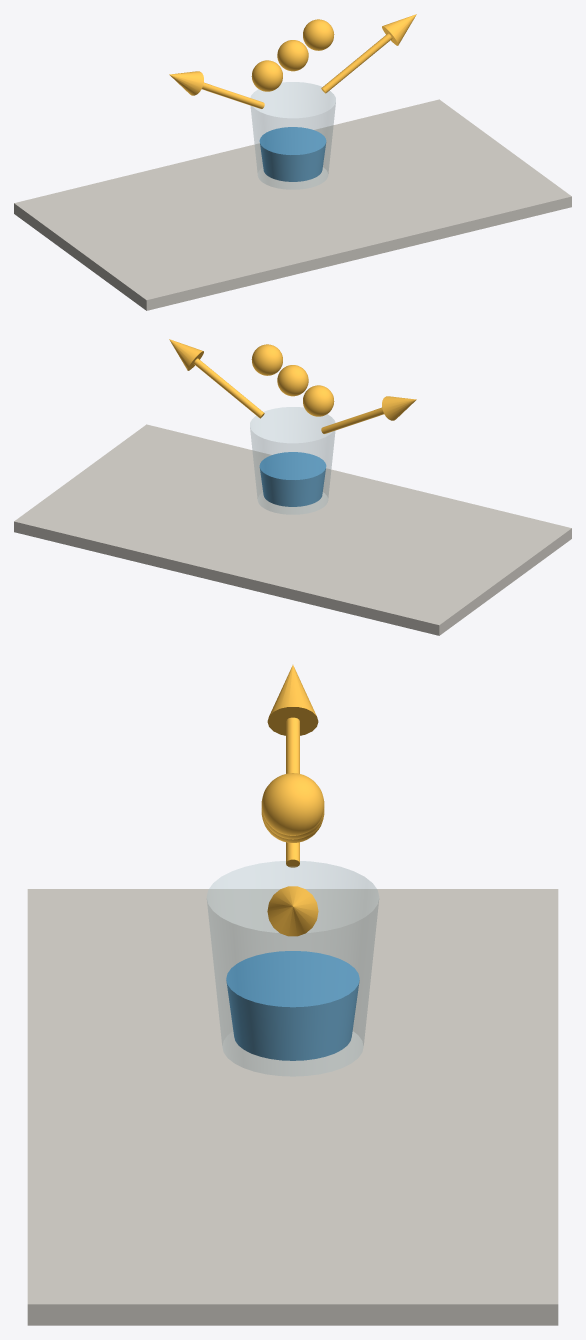
Rendered from chem-reaction-exothermic.glb.
3 views of the same model, one above another, from view 1: azimuth 30°, elevation 25°; view 2: azimuth 150°, elevation 25°; view 3: azimuth 270°, elevation 25° (orthographic). The views are drawn at different scales.
Visible parts, largest first — view 1: reaction-base, glass-wall, liquid-fill, heat-burst-2, heat-burst-1, heat-burst-3, heat-out-arrow-2-shaft, heat-out-arrow-1-head, heat-out-arrow-1-shaft, heat-out-arrow-2-head; view 2: reaction-base, glass-wall, liquid-fill, heat-burst-2, heat-burst-1, heat-burst-3, heat-out-arrow-2-shaft, heat-out-arrow-1-head, heat-out-arrow-1-shaft, heat-out-arrow-2-head; view 3: reaction-base, glass-wall, liquid-fill, heat-burst-3, heat-out-arrow-2-head, heat-out-arrow-1-head, heat-out-arrow-1-shaft.
Boxes of the visible parts, x1=… form: reaction-base: x1=14, y1=99, x2=571, y2=310; glass-wall: x1=250, y1=82, x2=335, y2=189; liquid-fill: x1=259, y1=127, x2=326, y2=181; heat-burst-2: x1=277, y1=40, x2=308, y2=71; heat-burst-1: x1=251, y1=60, x2=282, y2=91; heat-burst-3: x1=303, y1=19, x2=334, y2=50; heat-out-arrow-2-shaft: x1=321, y1=33, x2=392, y2=93; heat-out-arrow-1-head: x1=169, y1=71, x2=203, y2=95; heat-out-arrow-1-shaft: x1=202, y1=82, x2=264, y2=108; heat-out-arrow-2-head: x1=382, y1=14, x2=416, y2=45; reaction-base: x1=14, y1=424, x2=571, y2=635; glass-wall: x1=250, y1=407, x2=335, y2=514; liquid-fill: x1=259, y1=452, x2=326, y2=506; heat-burst-2: x1=277, y1=365, x2=308, y2=396; heat-burst-1: x1=303, y1=385, x2=334, y2=416; heat-burst-3: x1=251, y1=344, x2=282, y2=375; heat-out-arrow-2-shaft: x1=193, y1=358, x2=264, y2=418; heat-out-arrow-1-head: x1=382, y1=396, x2=416, y2=420; heat-out-arrow-1-shaft: x1=321, y1=407, x2=383, y2=433; heat-out-arrow-2-head: x1=169, y1=339, x2=203, y2=370; reaction-base: x1=27, y1=889, x2=558, y2=1325; glass-wall: x1=207, y1=861, x2=378, y2=1076; liquid-fill: x1=226, y1=951, x2=359, y2=1060; heat-burst-3: x1=261, y1=773, x2=324, y2=835; heat-out-arrow-2-head: x1=267, y1=886, x2=318, y2=936; heat-out-arrow-1-head: x1=267, y1=665, x2=318, y2=735; heat-out-arrow-1-shaft: x1=286, y1=717, x2=299, y2=867.
Size of what is drawn, in the model's own units: 2.5 by 1.03 by 1.35.
